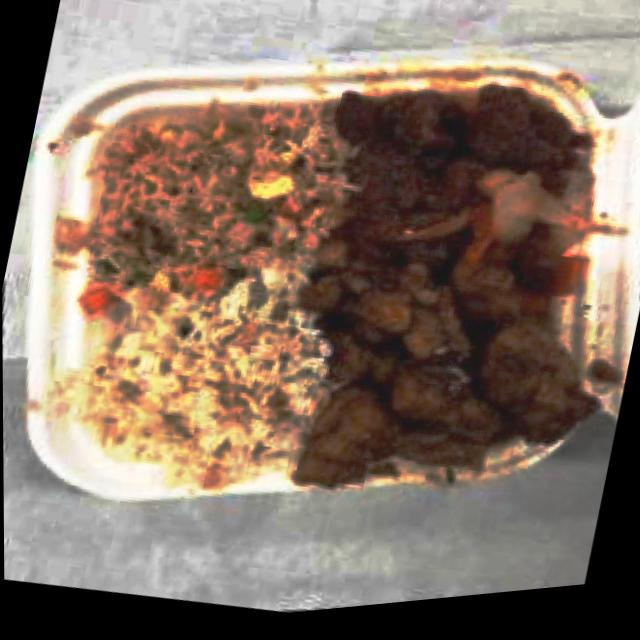Beijing Beef: (308, 34, 625, 316)
Fried Rice: (102, 85, 327, 296)
Kung Pao Chicken: (305, 230, 584, 506)
rice: (85, 251, 310, 494)
